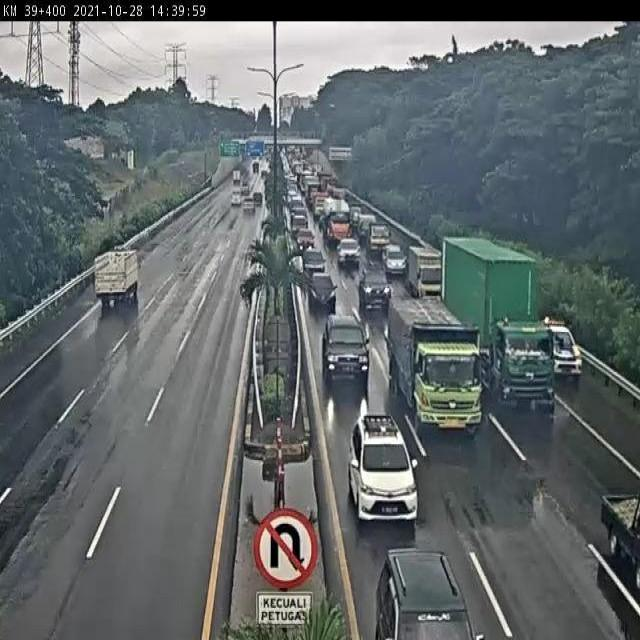big truck: (437, 232, 550, 408), (386, 294, 475, 418)
car: (349, 412, 417, 524), (320, 309, 367, 372), (540, 313, 581, 375), (355, 263, 391, 309), (378, 241, 408, 275), (306, 269, 335, 304), (335, 233, 361, 264), (363, 218, 388, 250), (302, 248, 324, 275)
mid truck: (87, 252, 136, 312)
small truck: (405, 245, 443, 298)
